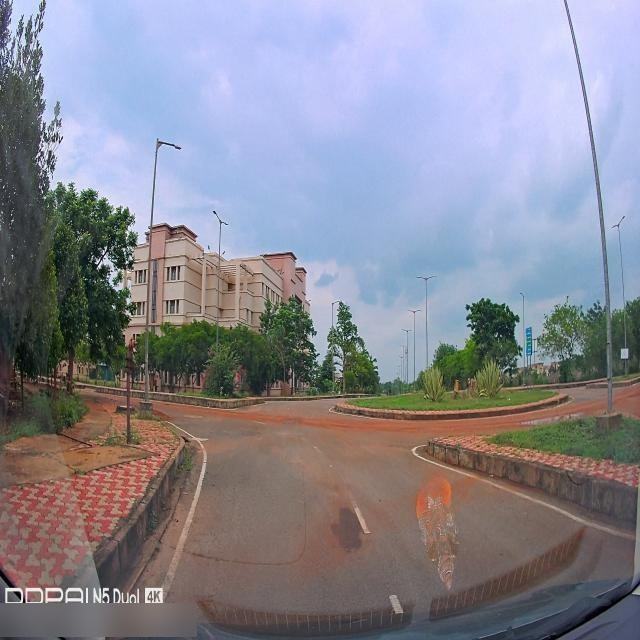pothole: (182, 414, 206, 419)
